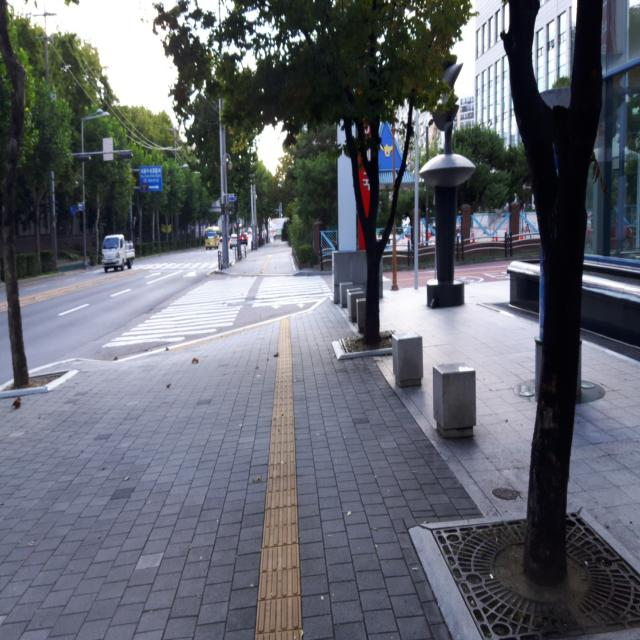횡단보도: (103, 274, 333, 348)
